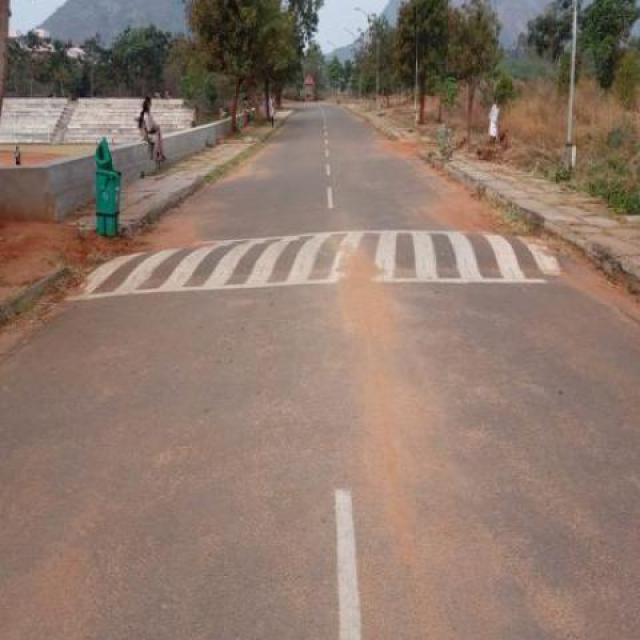Speed Bump: (72, 226, 571, 290)
